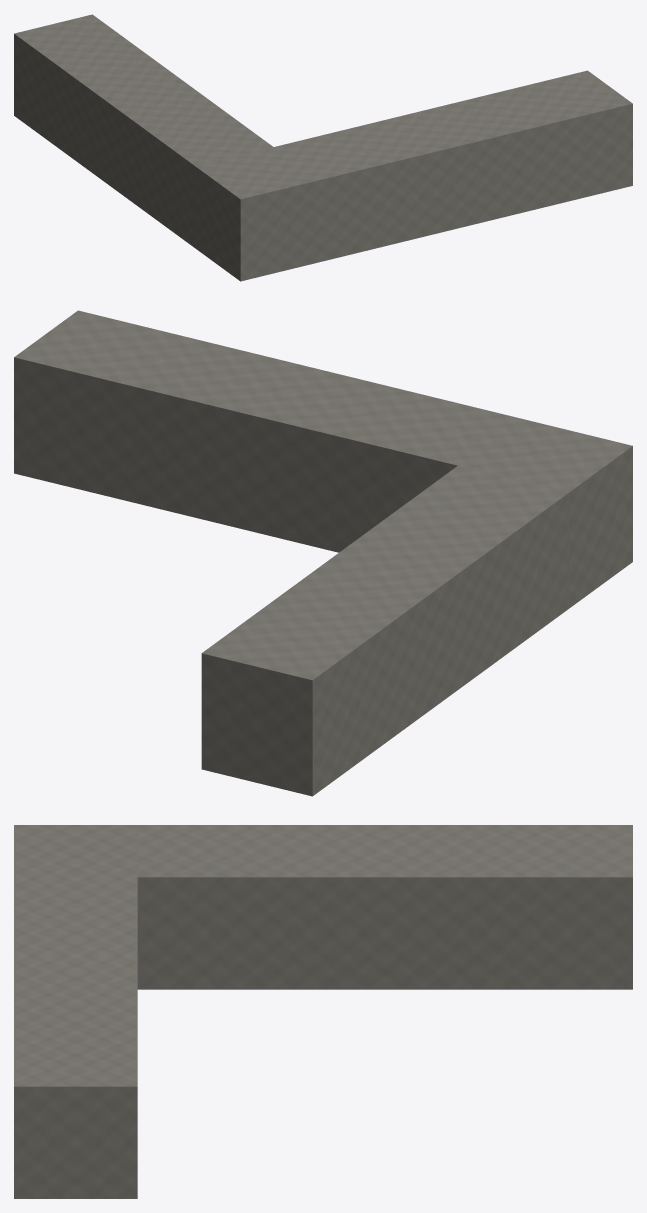
Rendered from OAA_Parking_Curb_Corner.fbx.
3 renders of one model, top to bottom at view 1: azimuth 30°, elevation 25°; view 2: azimuth 150°, elevation 25°; view 3: azimuth 270°, elevation 25°, orthographic. The views are drawn at different scales.
Visible parts, largest first — view 1: Body; view 2: Body; view 3: Body.
Boxes of the visible parts, x1,y1,x2,y2 form: Body: [14, 14, 632, 281]; Body: [14, 310, 632, 796]; Body: [14, 825, 632, 1198].
Bounding box in the file's own units: 1 × 0.2 × 1.
